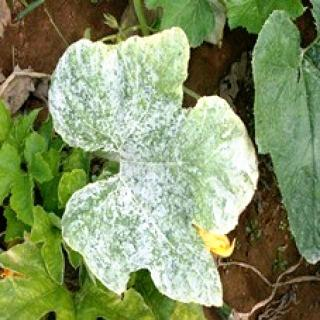grey mildew: (51, 32, 250, 306)
